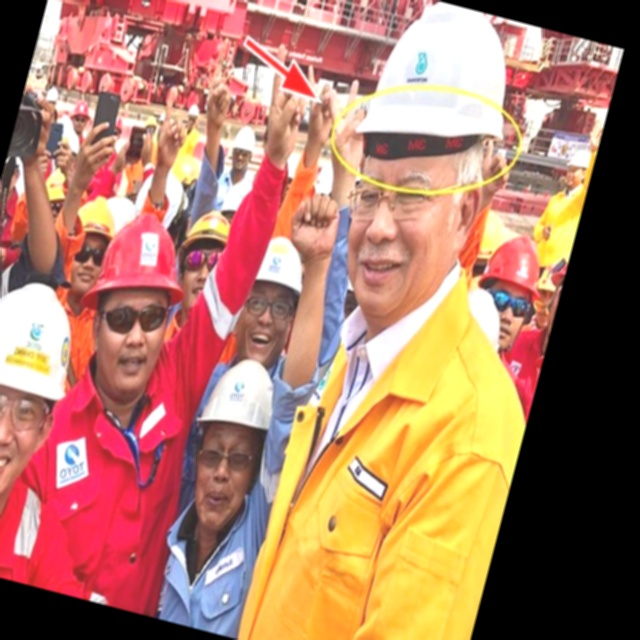Con_Casco: (67, 205, 193, 395), (171, 341, 292, 531)
